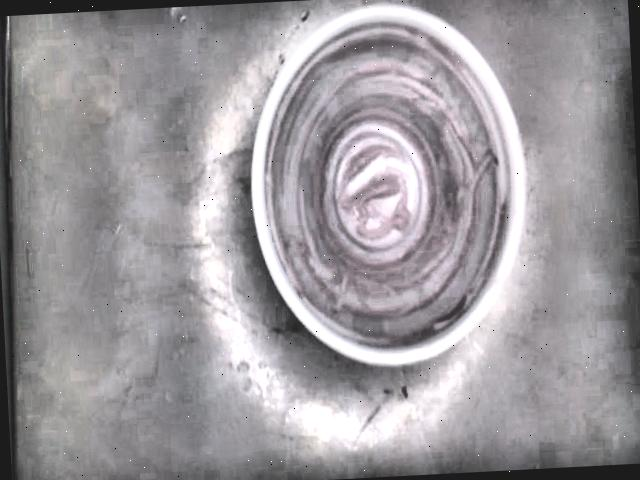Plastic: (255, 5, 528, 366)
